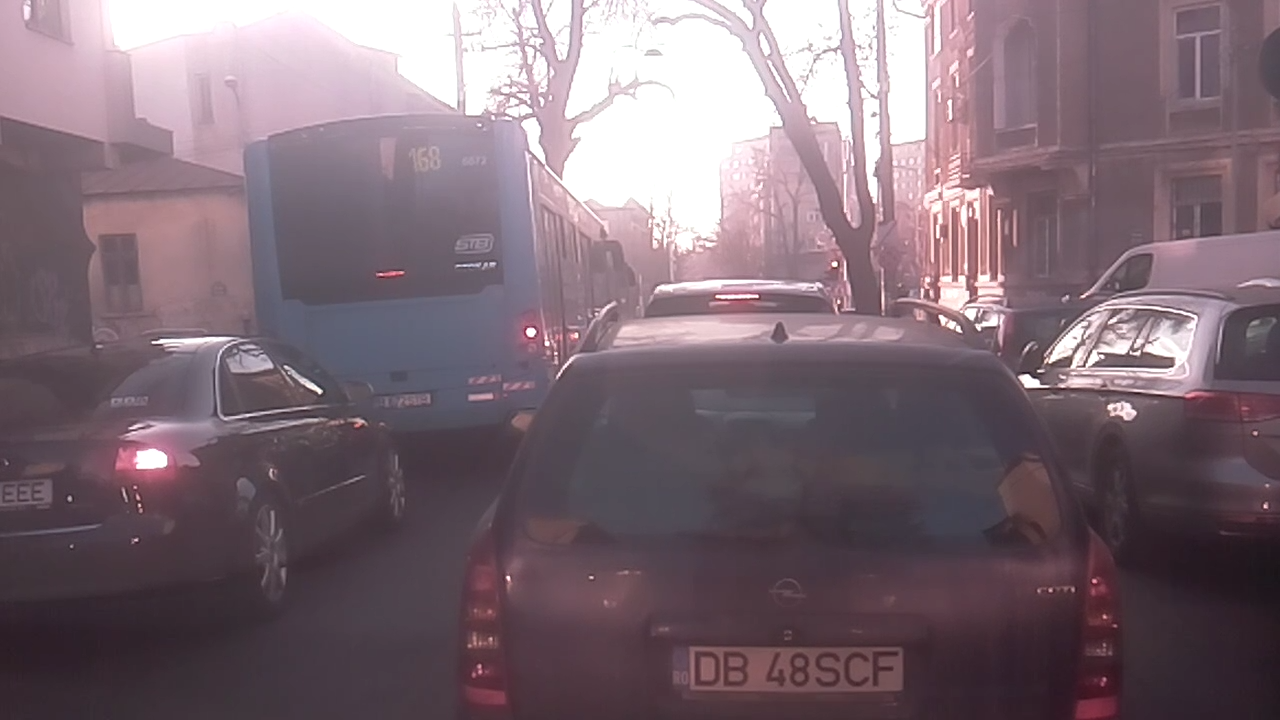license-plate: (663, 638, 911, 698)
